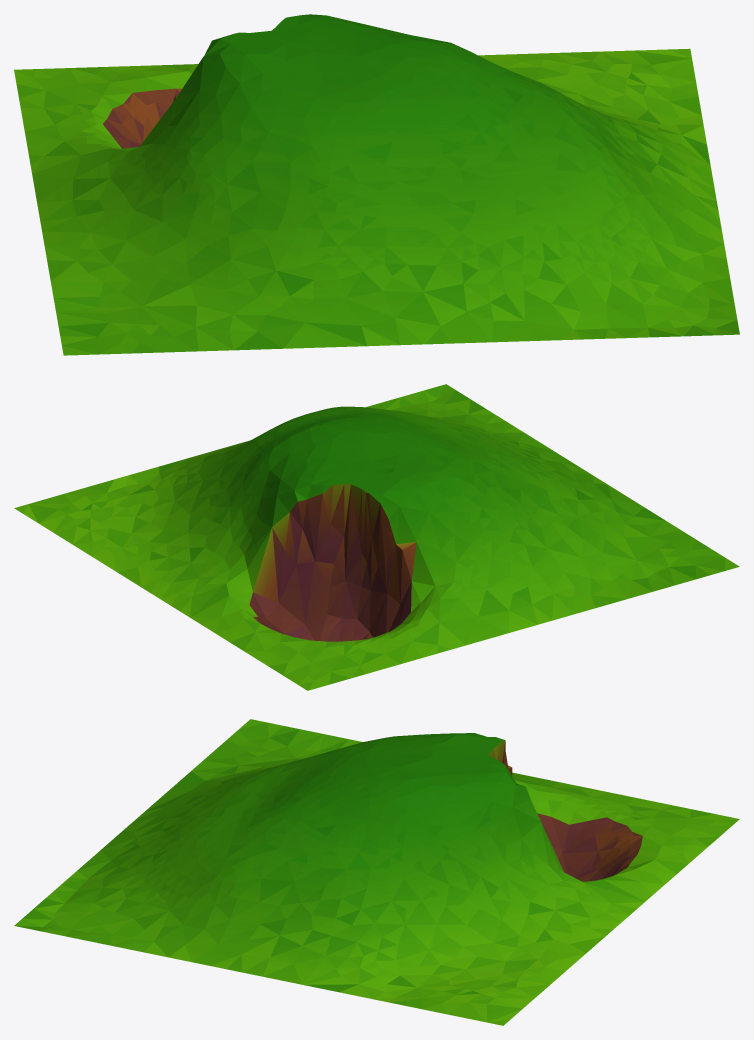
File: land006.gltf
3 views of the same model, one above another, from view 1: azimuth 30°, elevation 25°; view 2: azimuth 150°, elevation 25°; view 3: azimuth 270°, elevation 25° (orthographic). The views are drawn at different scales.
Parts seen in each view (by area): view 1: node_land006_26358; view 2: node_land006_26358; view 3: node_land006_26358.
Part boxes in pixels (<box>): node_land006_26358: <box>14,14,739,355</box>; node_land006_26358: <box>14,384,739,690</box>; node_land006_26358: <box>14,719,739,1025</box>.
Size of the model in its own units: 38.29 by 9.56 by 38.29.
Materials: 1 (1 with a texture image).
